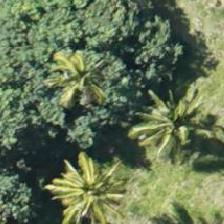coconut_tree: (130, 58, 220, 148), (26, 21, 116, 111), (46, 134, 136, 223)
